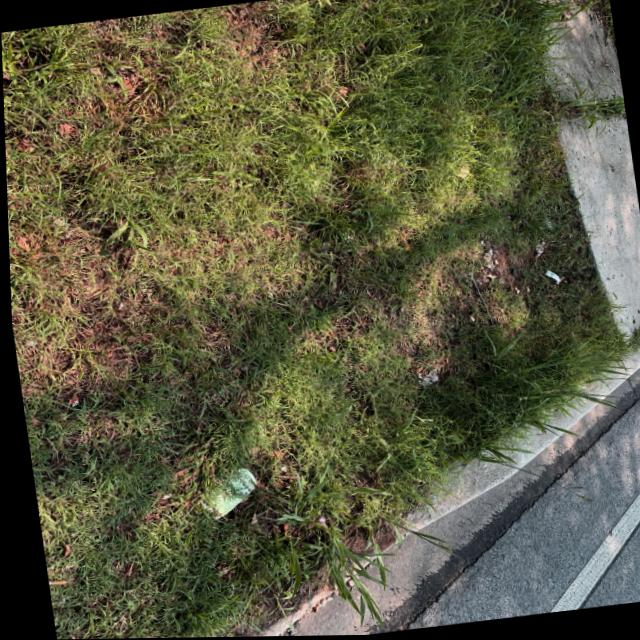Paper: (185, 464, 262, 527), (540, 269, 560, 287)
